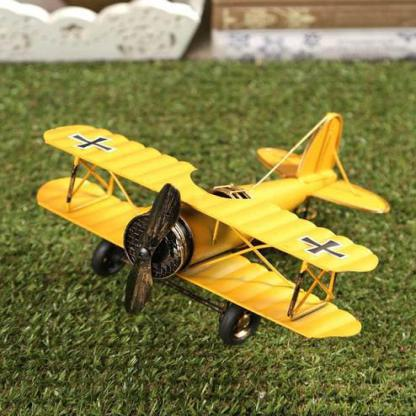CIV_Plane: (27, 107, 391, 350)
